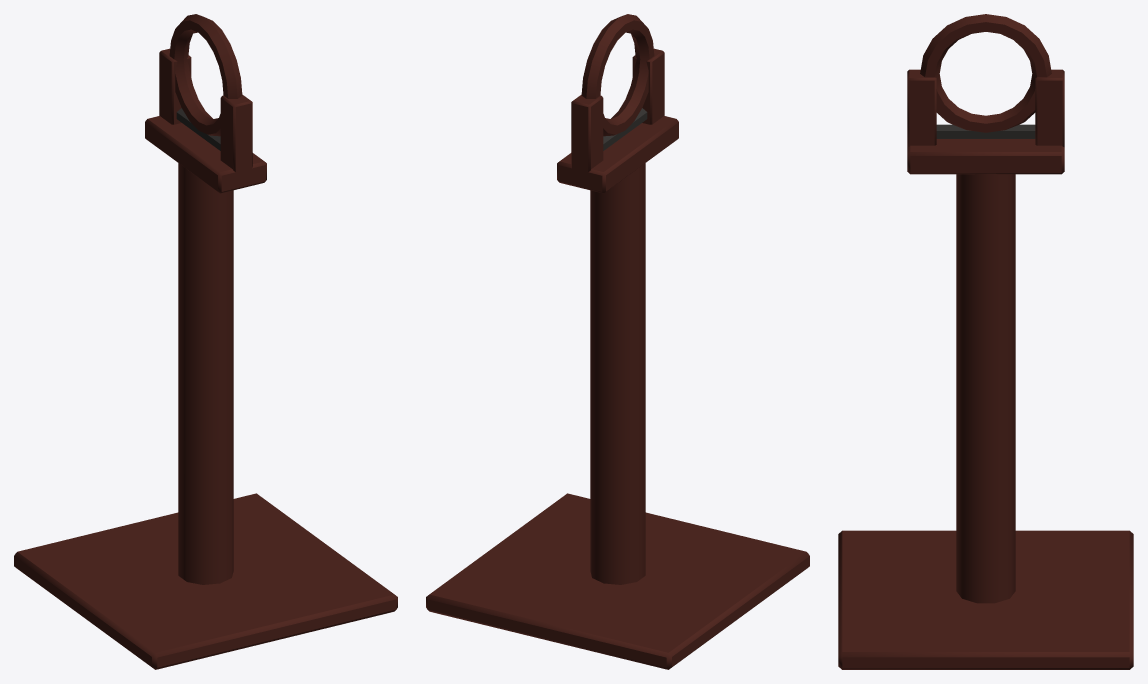
The model's file is PipeStand.fbx.
The picture shows the model from 3 angles, left to right: view 1: azimuth 30°, elevation 25°; view 2: azimuth 150°, elevation 25°; view 3: azimuth 270°, elevation 25°; orthographic projection. The views are drawn at different scales.
Parts seen in each view (by area): view 1: PipeStand_Stand; view 2: PipeStand_Stand; view 3: PipeStand_Stand, PipeStand_Bolts.
Boxes of the visible parts, x1,y1,x2,y2 form: PipeStand_Stand: (14, 14, 397, 669); PipeStand_Stand: (426, 14, 809, 669); PipeStand_Stand: (838, 14, 1133, 669); PipeStand_Bolts: (936, 124, 1035, 138).
Bounding box in the file's own units: 0.3 × 0.667 × 0.3.
